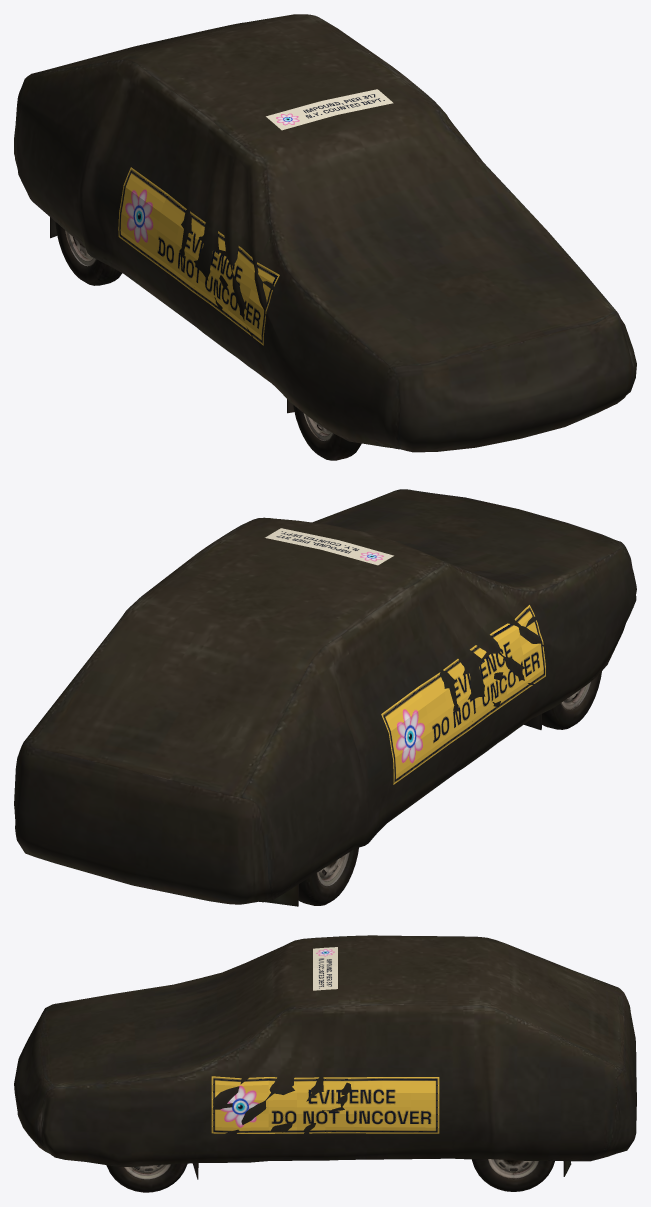
File: nyb_chase_lincoln.glb
3 views of the same model, one above another, from view 1: azimuth 30°, elevation 25°; view 2: azimuth 150°, elevation 25°; view 3: azimuth 270°, elevation 25° (orthographic). The views are drawn at different scales.
Parts seen in each view (by area): view 1: covered_car_wheel_01, stk_lbl_ffb48bd3da.png.001, stk_lbl_c16155879e.png; view 2: covered_car_wheel_01, stk_lbl_ffb48bd3da.png.001, stk_lbl_c16155879e.png; view 3: covered_car_wheel_01, stk_lbl_ffb48bd3da.png, stk_lbl_c16155879e.png.
Boxes of the visible parts, box(x1,y1,x2,y2) form: covered_car_wheel_01: box(14, 14, 636, 460); stk_lbl_ffb48bd3da.png.001: box(118, 167, 279, 345); stk_lbl_c16155879e.png: box(266, 89, 393, 130); covered_car_wheel_01: box(14, 489, 636, 906); stk_lbl_ffb48bd3da.png.001: box(381, 605, 545, 784); stk_lbl_c16155879e.png: box(265, 528, 393, 565); covered_car_wheel_01: box(14, 935, 636, 1192); stk_lbl_ffb48bd3da.png: box(211, 1076, 439, 1133); stk_lbl_c16155879e.png: box(313, 947, 337, 990).
Size of the model in its own units: 1.79 by 1.41 by 4.38.
5 materials, 5 textured.
